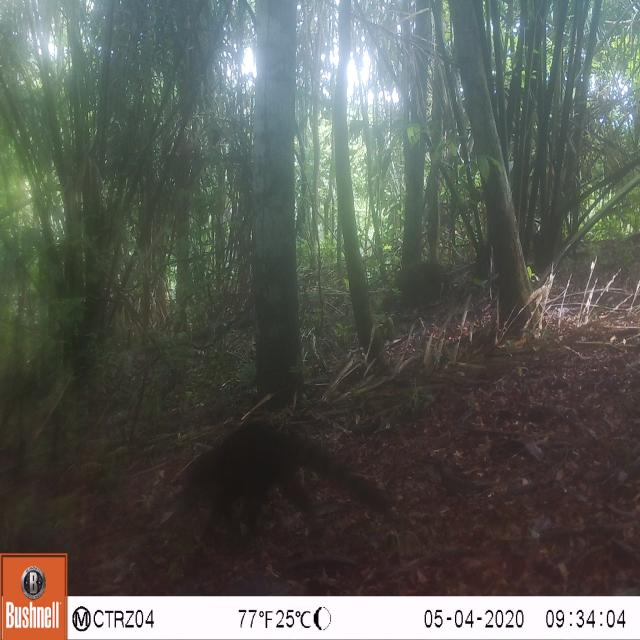South American Coati: (175, 399, 406, 552)
